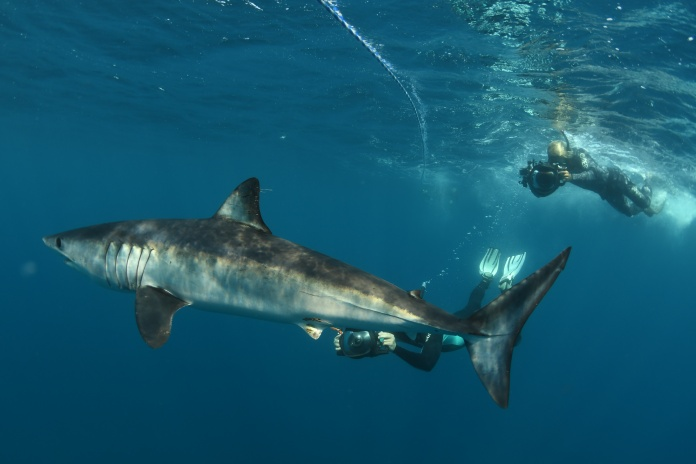Mako: (36, 172, 573, 414)
